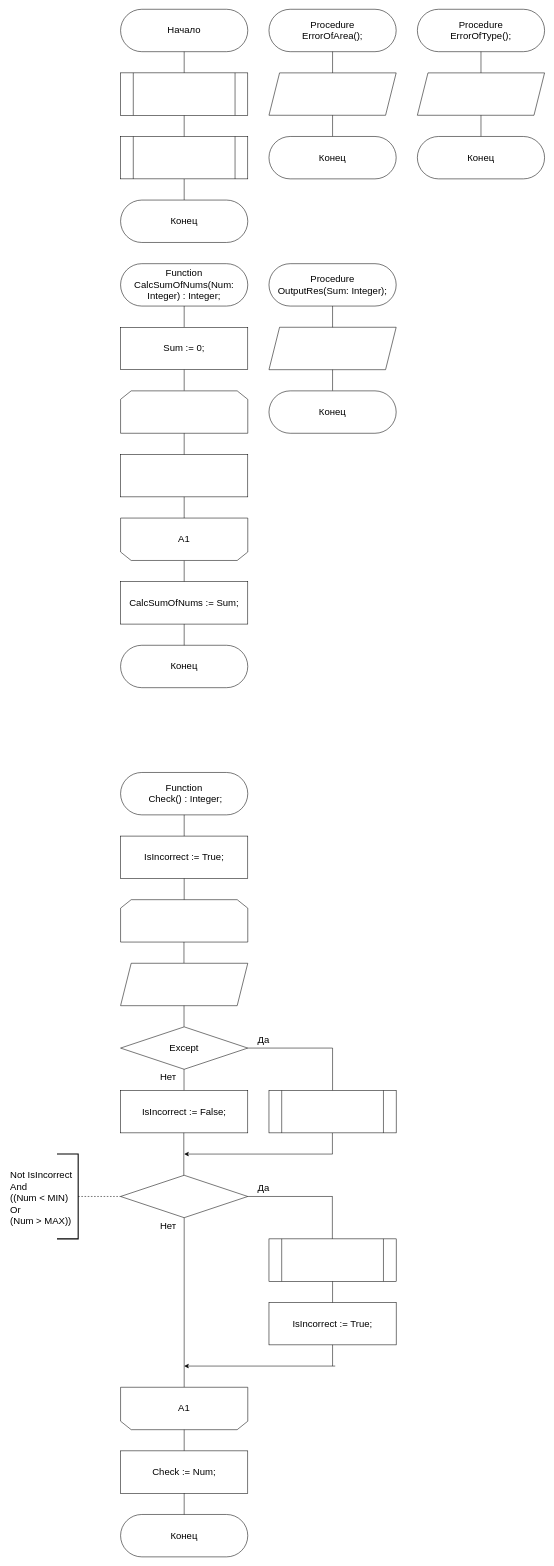
Some shapes in this 554 by 1566 pixel diagram are drawn without their labels. Each missing label, with the centre of its shape:
A1 IsIncorrect: pixel 184 920
A1 Num > 0: pixel 184 411
ErrorOfArea();: pixel 332 1111
ErrorOfType();: pixel 332 1259
Num: pixel 184 984
OutputRes( CalcSumOfNums(P) );: pixel 184 157
P := Check(MIN_P, MAX_P);: pixel 184 93
Sum: pixel 332 348
Sum := Sum + Num Mod 10; Num := Num Div DIGIT;: pixel 184 475
Значение не попадает в диапазон!: pixel 332 93
Проверьте корректность ввода данных!: pixel 481 93
